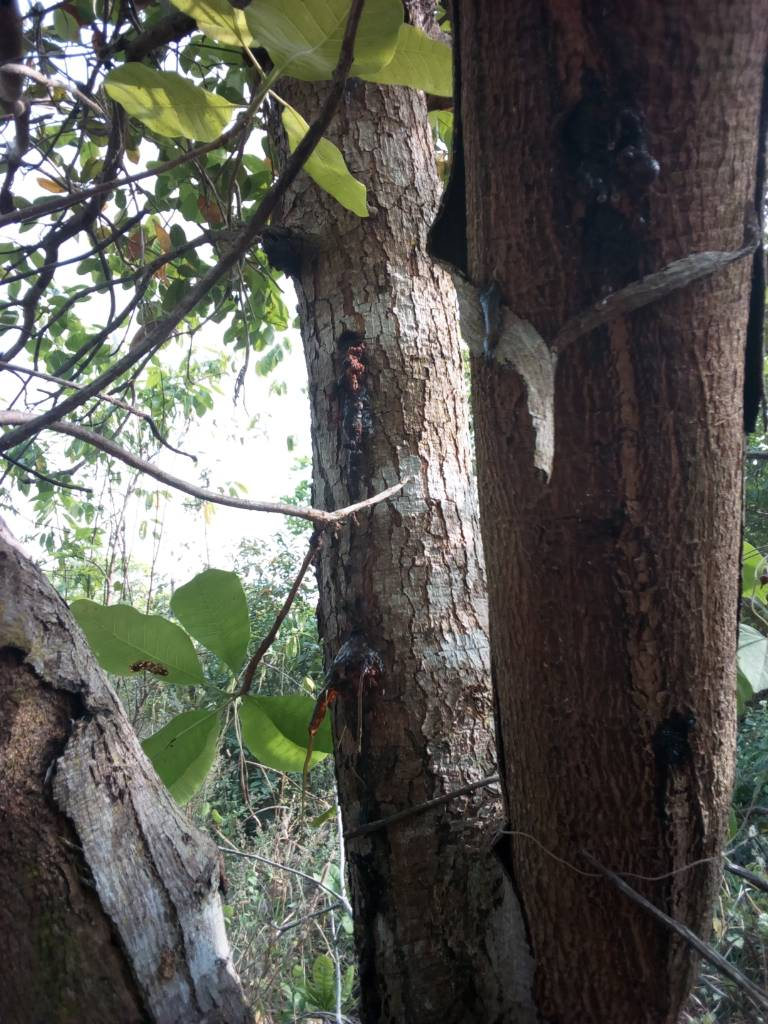Apate terebrans: (290, 300, 416, 439), (296, 628, 405, 761)
